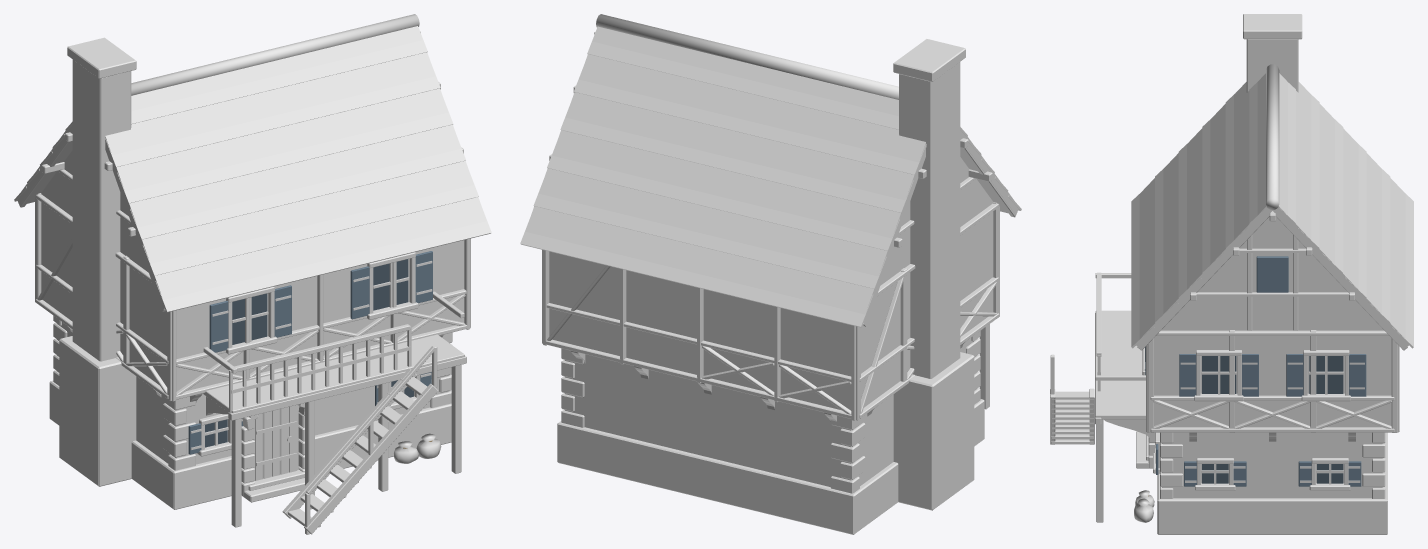
File: col_21_balcon_escalier_bois.fbx
3 views of the same model, side by side, from view 1: azimuth 30°, elevation 25°; view 2: azimuth 150°, elevation 25°; view 3: azimuth 270°, elevation 25° (orthographic). The views are drawn at different scales.
Visible parts, largest first — view 1: col_21_balcon_escalier_bois_LOD0; view 2: col_21_balcon_escalier_bois_LOD0; view 3: col_21_balcon_escalier_bois_LOD0.
Part boxes in pixels (x1,y1,x2,y2): col_21_balcon_escalier_bois_LOD0: [14, 14, 491, 534]; col_21_balcon_escalier_bois_LOD0: [520, 14, 1021, 534]; col_21_balcon_escalier_bois_LOD0: [1050, 14, 1413, 534].
Size of what is drawn, in the model's own units: 8.22 by 9.54 by 8.24.
